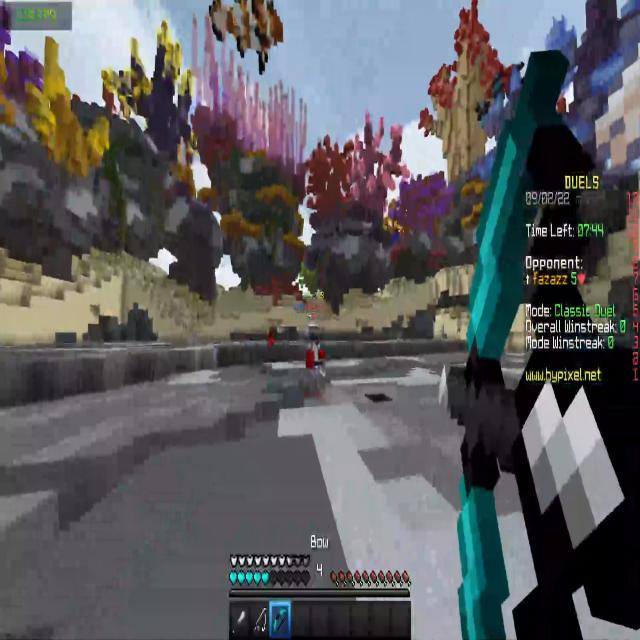Player: (296, 313, 334, 402)
